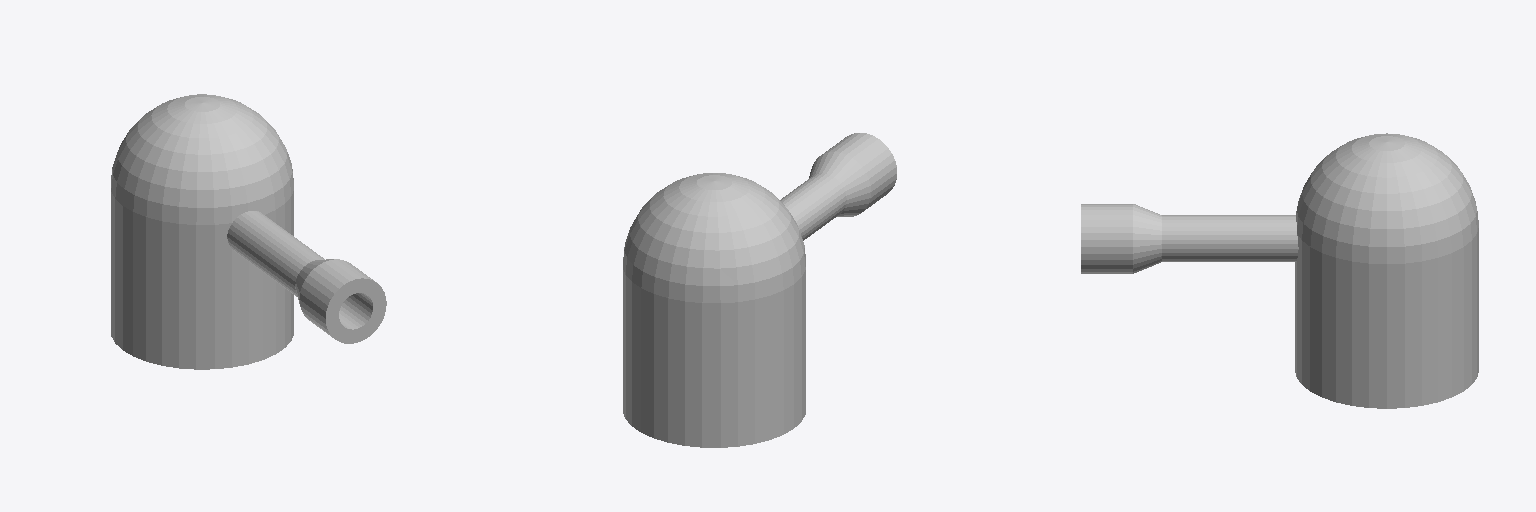
The model's file is Train_cannon.obj.
The picture shows the model from 3 angles: view 1: azimuth 30°, elevation 25°; view 2: azimuth 150°, elevation 25°; view 3: azimuth 270°, elevation 25°; orthographic projection.
Size of the model in its own units: 0.1225 by 0.1673 by 0.2648.